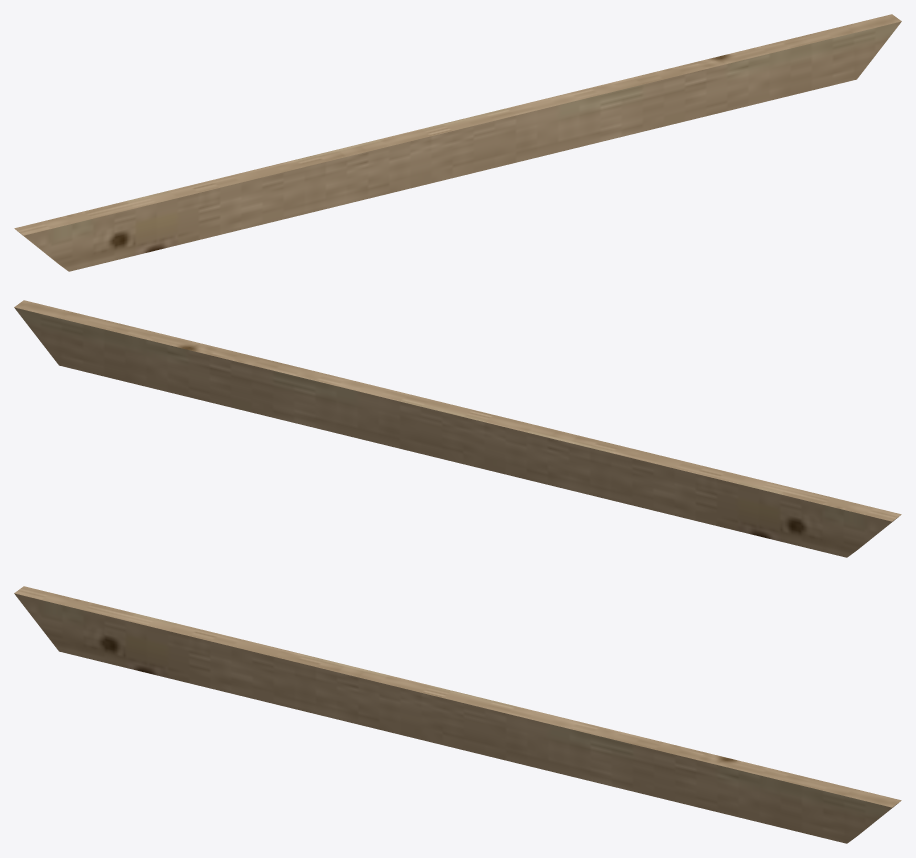
File: Joglo_part_225.fbx
3 renders of one model, top to bottom at view 1: azimuth 30°, elevation 25°; view 2: azimuth 150°, elevation 25°; view 3: azimuth 330°, elevation 25°, orthographic.
Parts seen in each view (by area): view 1: Mesh297_Wood___Pine_Grained_Horizontal_0.001; view 2: Mesh297_Wood___Pine_Grained_Horizontal_0.001; view 3: Mesh297_Wood___Pine_Grained_Horizontal_0.001.
Boxes of the visible parts, bbox=[...] form: Mesh297_Wood___Pine_Grained_Horizontal_0.001: bbox=[14, 14, 901, 271]; Mesh297_Wood___Pine_Grained_Horizontal_0.001: bbox=[14, 300, 901, 557]; Mesh297_Wood___Pine_Grained_Horizontal_0.001: bbox=[14, 586, 901, 843].
Bounding box in the file's own units: 38.35 × 1.97 × 0.7477.
